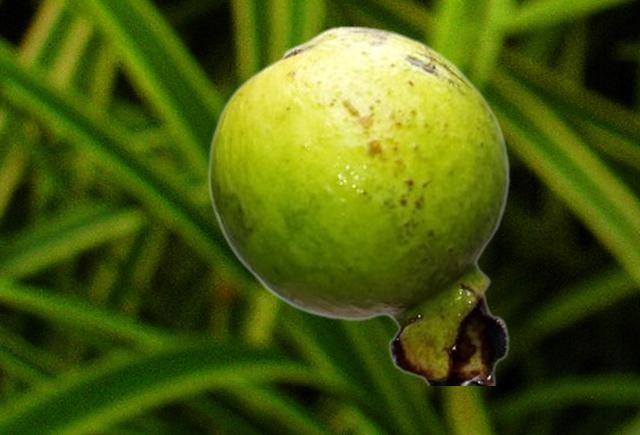guava: (207, 25, 510, 384)
